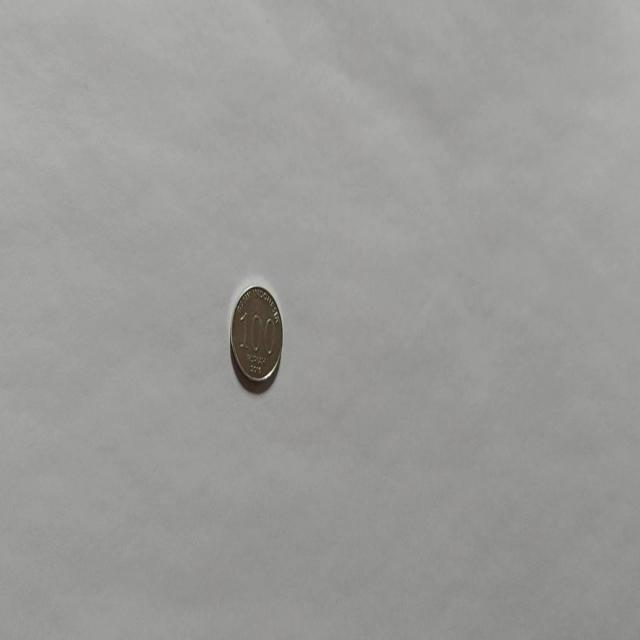seratus rupiah: (229, 283, 283, 385)
